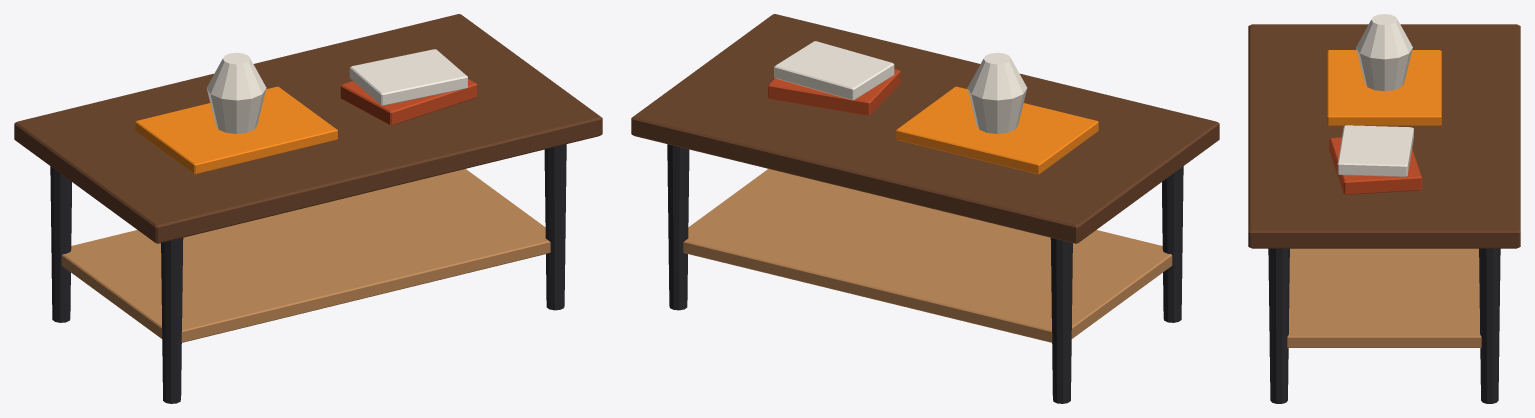
File: CoffeeTable.obj
3 views of the same model, side by side, from view 1: azimuth 30°, elevation 25°; view 2: azimuth 150°, elevation 25°; view 3: azimuth 270°, elevation 25° (orthographic). The views are drawn at different scales.
Visible parts, largest first — view 1: CoffeeTable_Wood_Walnut, CoffeeTable_Wood_Oak, CoffeeTable_Metal_Charcoal, CoffeeTable_Accent_VibrantOrange, CoffeeTable_Fabric_Cream, CoffeeTable_Fabric_Terracotta; view 2: CoffeeTable_Wood_Walnut, CoffeeTable_Wood_Oak, CoffeeTable_Metal_Charcoal, CoffeeTable_Accent_VibrantOrange, CoffeeTable_Fabric_Cream, CoffeeTable_Fabric_Terracotta; view 3: CoffeeTable_Wood_Walnut, CoffeeTable_Wood_Oak, CoffeeTable_Accent_VibrantOrange, CoffeeTable_Fabric_Cream, CoffeeTable_Metal_Charcoal, CoffeeTable_Fabric_Terracotta.
Part boxes in pixels (<box>): CoffeeTable_Wood_Walnut: <box>14,14,602,243</box>; CoffeeTable_Wood_Oak: <box>61,169,550,342</box>; CoffeeTable_Metal_Charcoal: <box>50,144,566,403</box>; CoffeeTable_Accent_VibrantOrange: <box>135,86,337,174</box>; CoffeeTable_Fabric_Cream: <box>206,49,467,133</box>; CoffeeTable_Fabric_Terracotta: <box>340,79,477,125</box>; CoffeeTable_Wood_Walnut: <box>631,14,1219,243</box>; CoffeeTable_Wood_Oak: <box>683,169,1172,342</box>; CoffeeTable_Metal_Charcoal: <box>667,144,1183,403</box>; CoffeeTable_Accent_VibrantOrange: <box>896,86,1098,174</box>; CoffeeTable_Fabric_Cream: <box>774,41,1027,133</box>; CoffeeTable_Fabric_Terracotta: <box>768,69,900,115</box>; CoffeeTable_Wood_Walnut: <box>1248,24,1520,248</box>; CoffeeTable_Wood_Oak: <box>1287,248,1481,347</box>; CoffeeTable_Accent_VibrantOrange: <box>1327,50,1441,125</box>; CoffeeTable_Fabric_Cream: <box>1337,14,1413,176</box>; CoffeeTable_Metal_Charcoal: <box>1268,248,1500,403</box>; CoffeeTable_Fabric_Terracotta: <box>1329,137,1421,194</box>.
Size of the model in its own units: 1.12 by 0.65 by 0.62.
